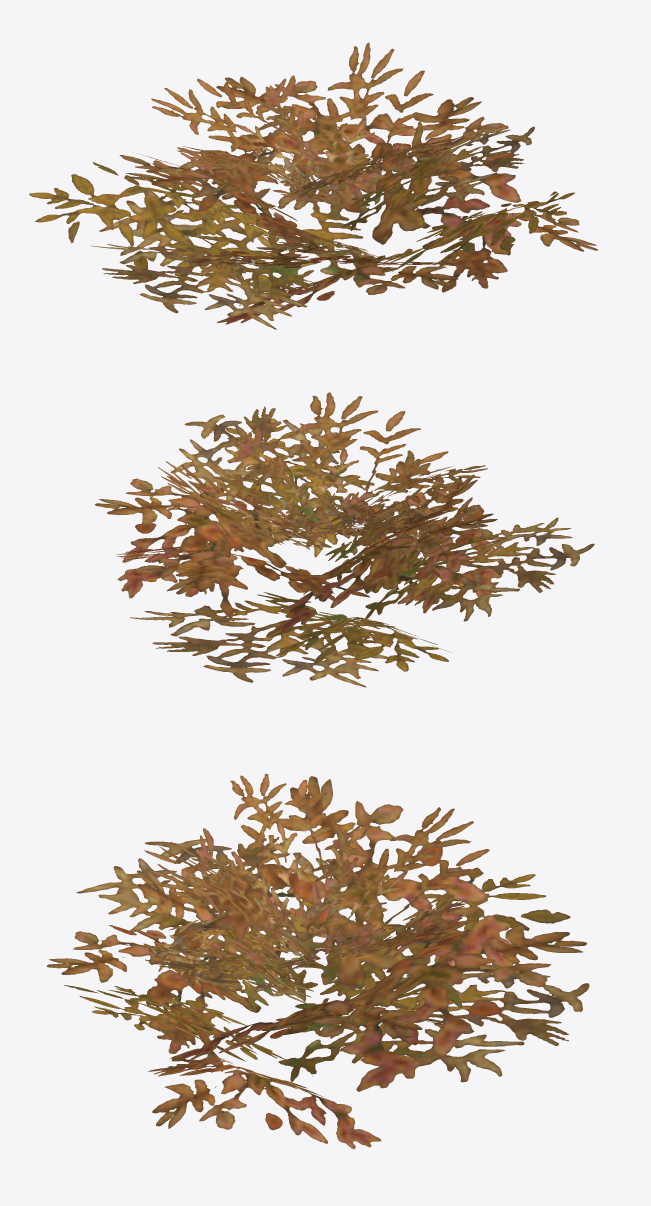
Rendered from 4005_Item_hua_1.FBX.
3 views of the same model, one above another, from view 1: azimuth 30°, elevation 25°; view 2: azimuth 150°, elevation 25°; view 3: azimuth 270°, elevation 25° (orthographic). The views are drawn at different scales.
Visible parts, largest first — view 1: 4005_Item_hua_1; view 2: 4005_Item_hua_1; view 3: 4005_Item_hua_1.
Boxes of the visible parts, box(x1,y1,x2,y2) form: 4005_Item_hua_1: box(29, 42, 597, 329); 4005_Item_hua_1: box(95, 392, 594, 687); 4005_Item_hua_1: box(46, 773, 589, 1149).
Size of the model in its own units: 221 by 190 by 69.58.
